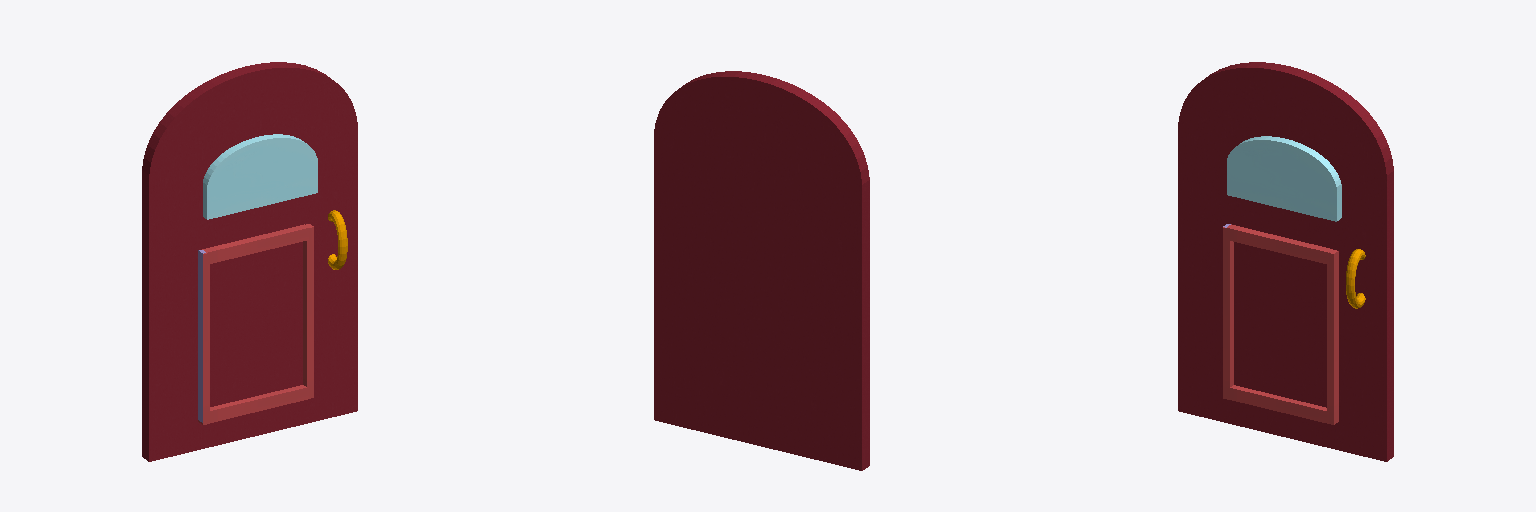
3 views of the same model, side by side, from view 1: azimuth 30°, elevation 25°; view 2: azimuth 150°, elevation 25°; view 3: azimuth 330°, elevation 25° (orthographic).
Visible parts, largest first — view 1: Box28946, Object032, Box28952, Box28949, Box28951, Box28950, Box28948, Box28947, Torus001; view 2: Box28946; view 3: Box28946, Object032, Box28952, Box28949, Box28951, Box28948, Box28950, Torus001.
Part boxes in pixels (bbox=[...]): Box28946: bbox=[142, 62, 357, 461]; Object032: bbox=[210, 242, 302, 406]; Box28952: bbox=[203, 134, 317, 219]; Box28949: bbox=[303, 224, 313, 398]; Box28951: bbox=[202, 224, 308, 264]; Box28950: bbox=[207, 385, 308, 423]; Box28948: bbox=[198, 253, 209, 424]; Box28947: bbox=[198, 250, 205, 422]; Torus001: bbox=[328, 210, 347, 269]; Box28946: bbox=[654, 71, 869, 470]; Box28946: bbox=[1178, 62, 1393, 461]; Object032: bbox=[1234, 242, 1326, 407]; Box28952: bbox=[1227, 136, 1341, 221]; Box28949: bbox=[1327, 250, 1338, 424]; Box28951: bbox=[1226, 224, 1332, 264]; Box28948: bbox=[1223, 227, 1233, 399]; Box28950: bbox=[1226, 385, 1328, 423]; Torus001: bbox=[1346, 249, 1365, 308].
Bounding box in the file's own units: 7.17 × 11.98 × 1.18.
5 materials, 4 textured.